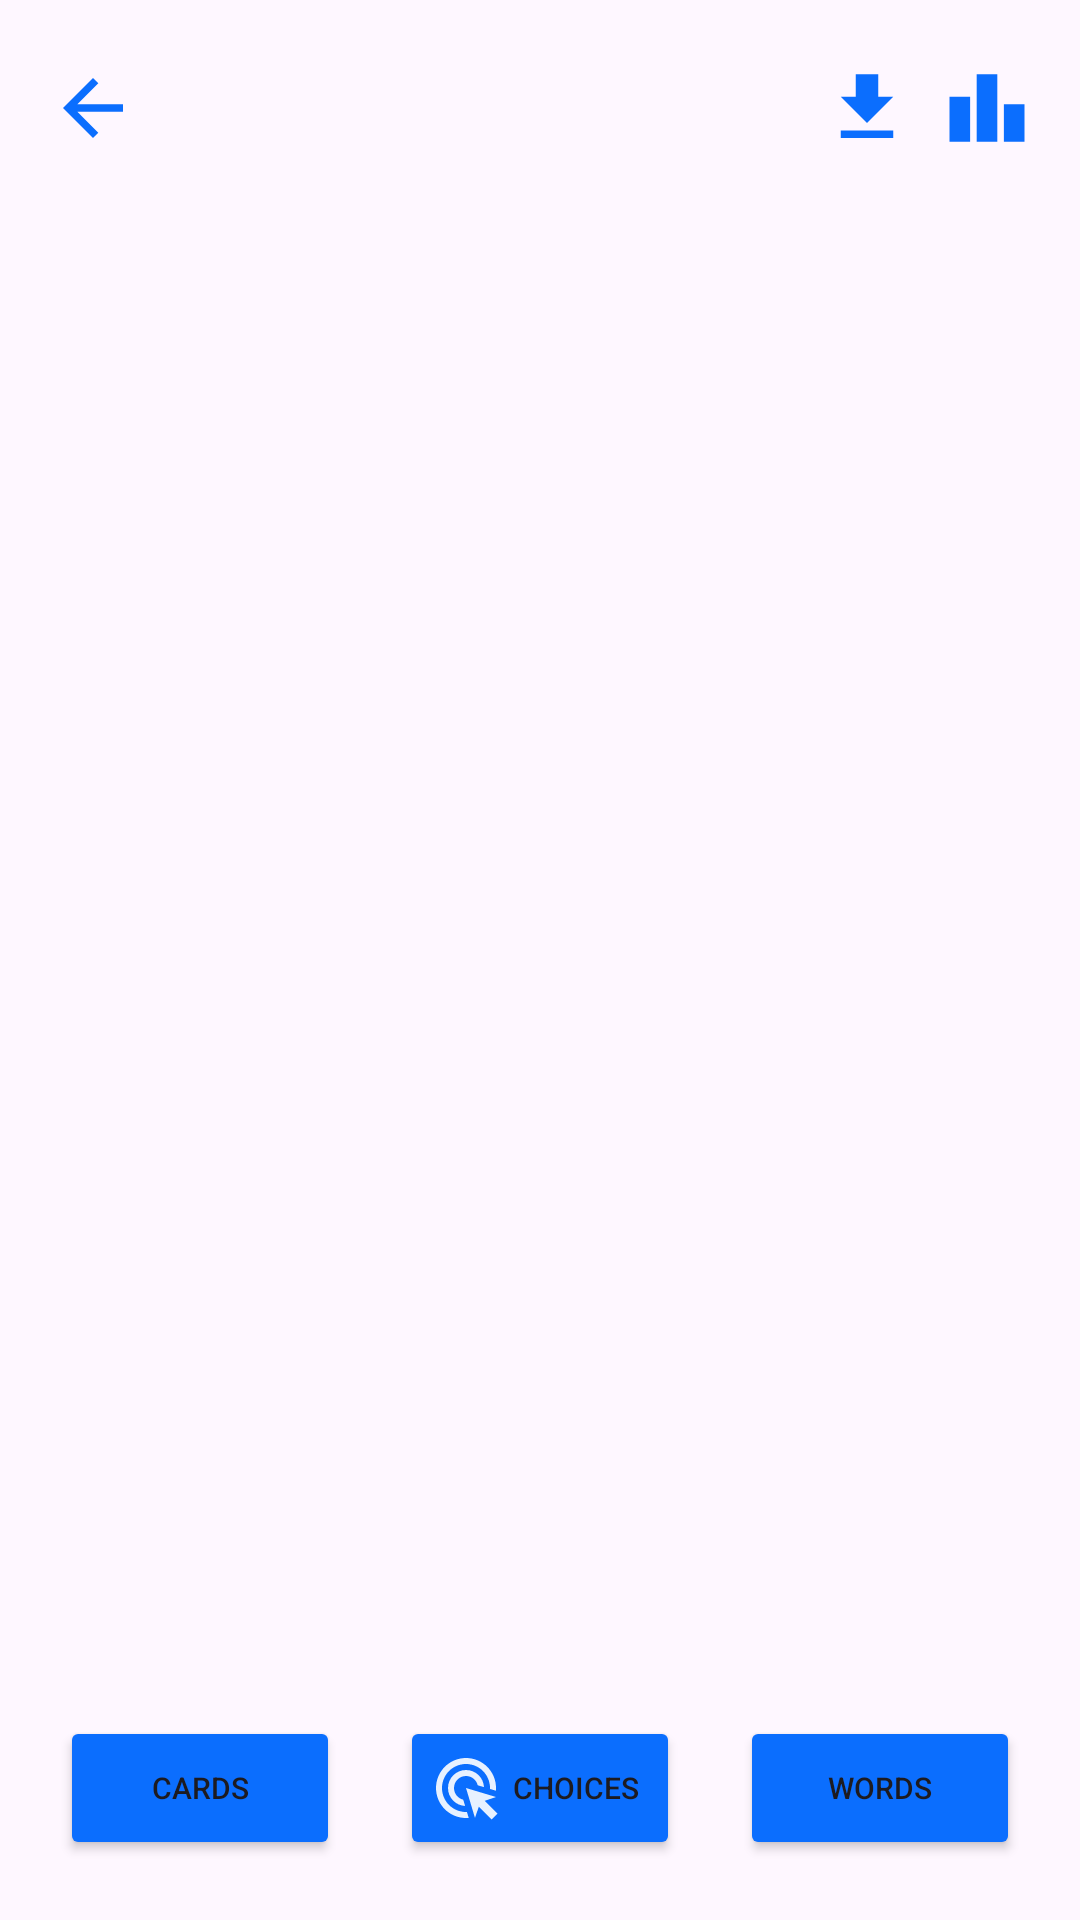

Icon click points for this 1080 × 1920 phone screenshot, format [x,y]:
arrow back: [93,108]
download: [867,106]
leaderboard: [987,108]
